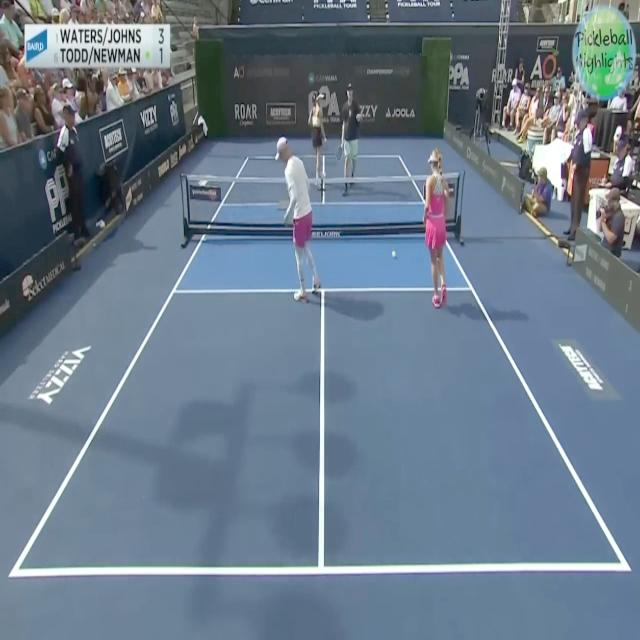Pickleball: (391, 247, 397, 261)
